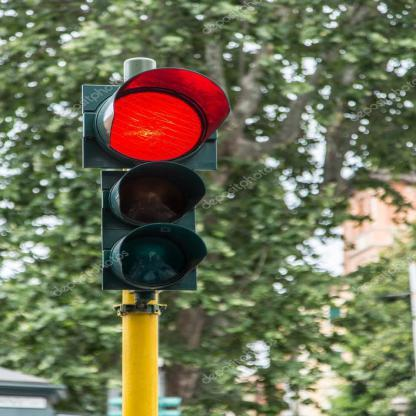red_light: (84, 66, 229, 292)
